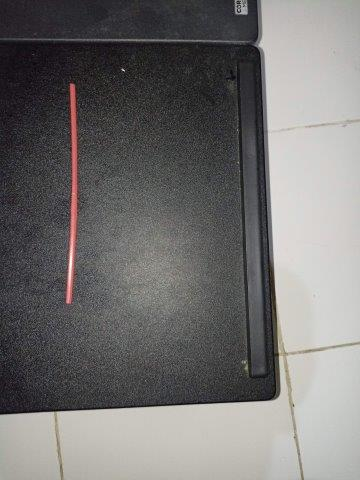sedotan: (64, 83, 78, 303)
